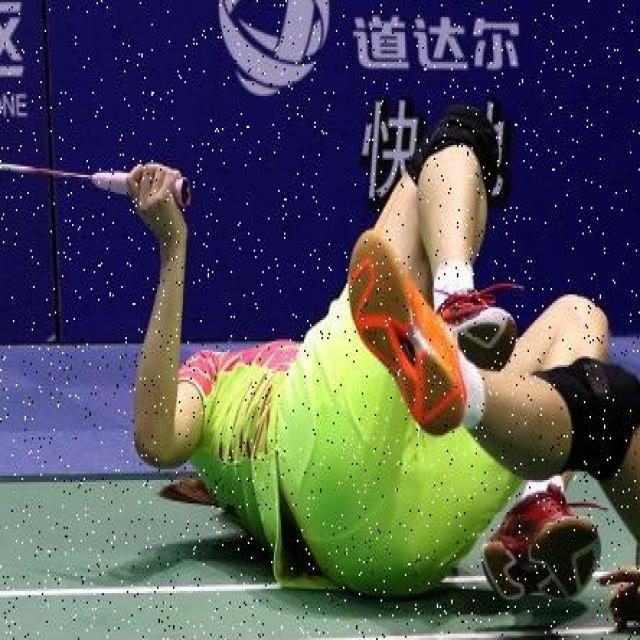fall: (126, 164, 564, 591)
